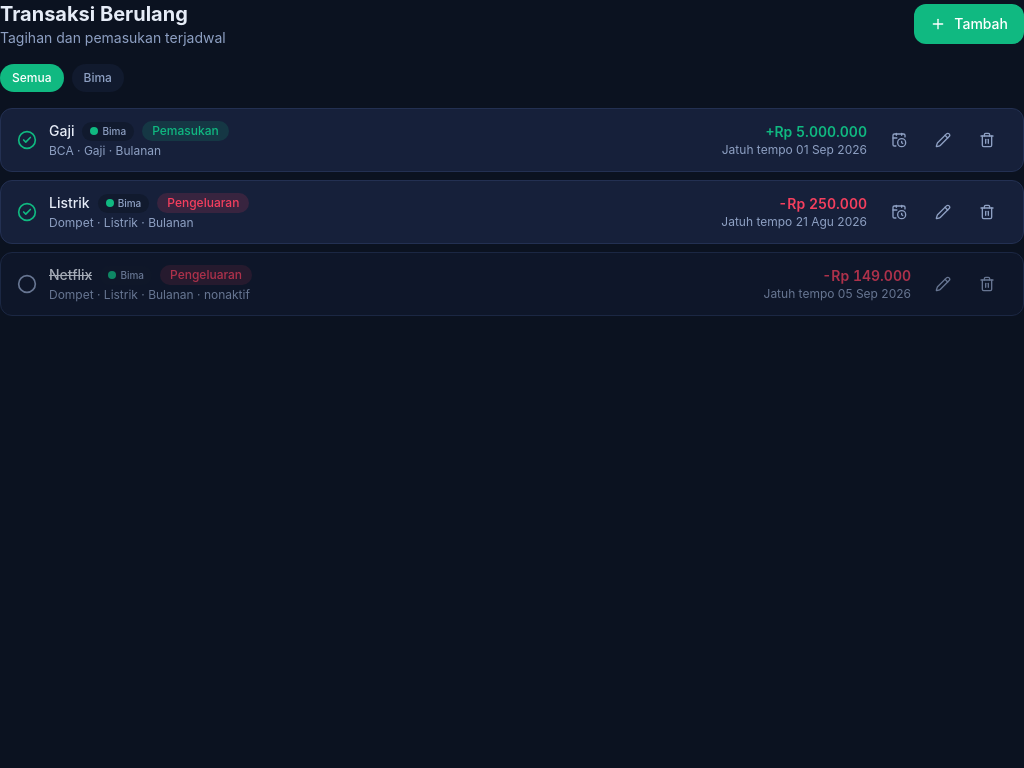
Test: RecurringPage › deletes a recurring transaction through the confirm dialog
Expected: the text "Gaji" is shown, x1=49 y1=121 x2=74 y2=141
Click the button named "Hapus" next to "Rp 5.000.000".
click(987, 140)  # box x1=967 y1=126 x2=1007 y2=154
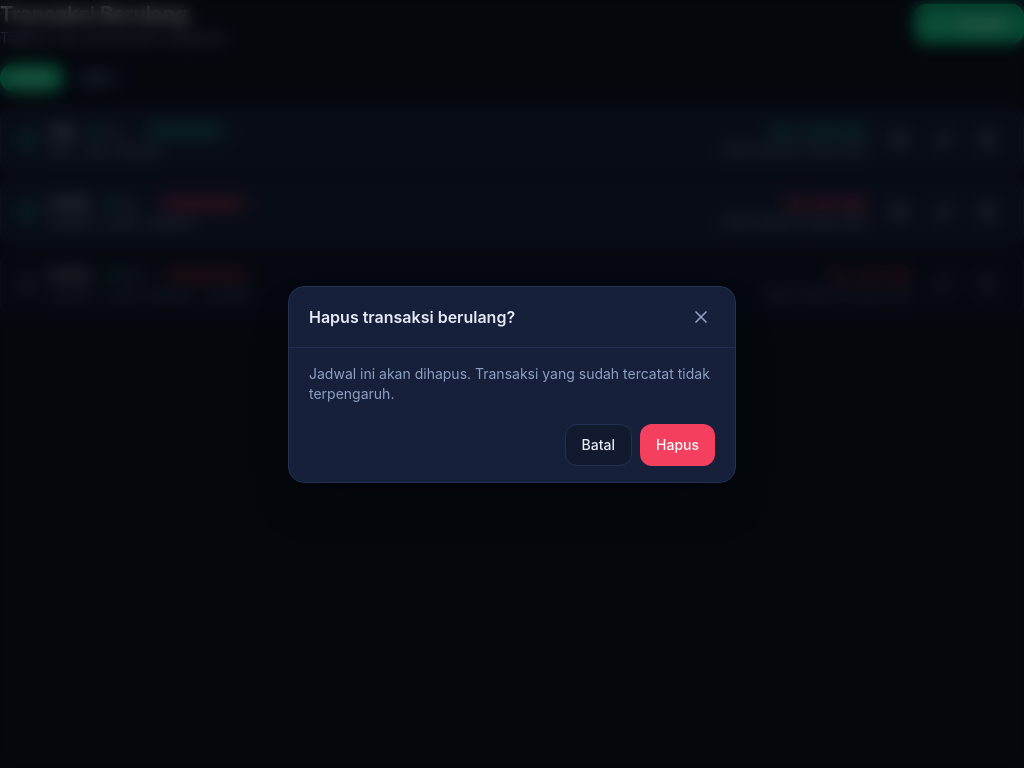
Expected: the heading "Hapus transaksi berulang?" is shown, x1=309 y1=304 x2=515 y2=328
Click the button "Hapus".
click(678, 444)  # box x1=640 y1=424 x2=715 y2=466
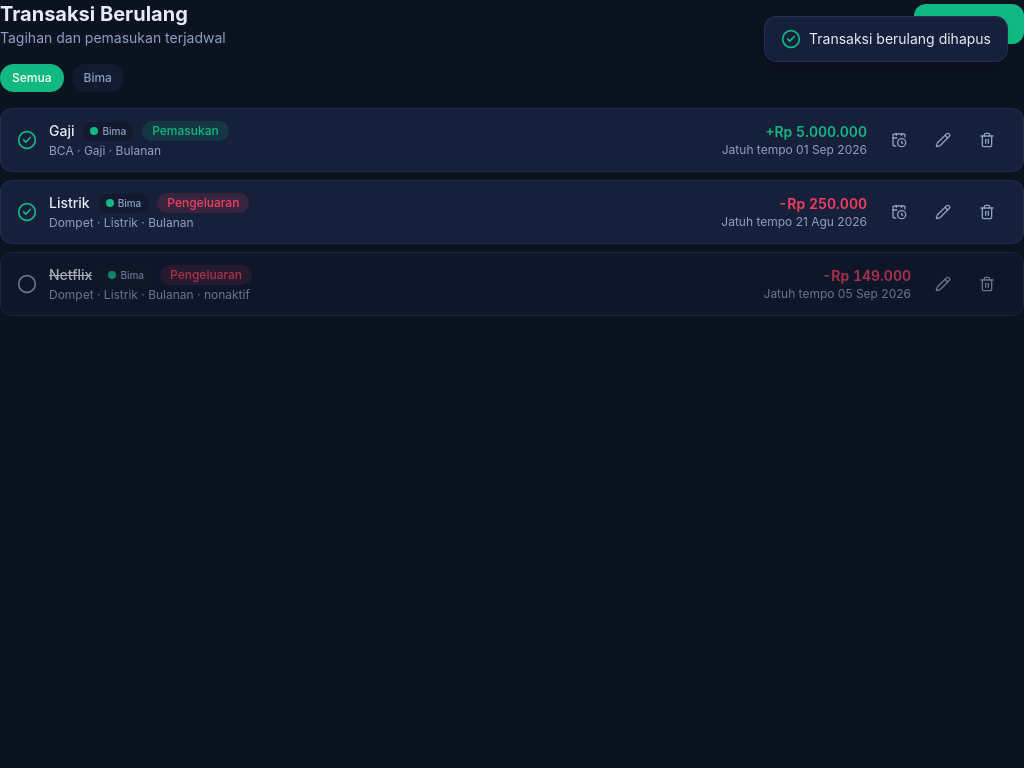
Expected: the text "Transaksi berulang dihapus" is shown, x1=809 y1=29 x2=991 y2=49
